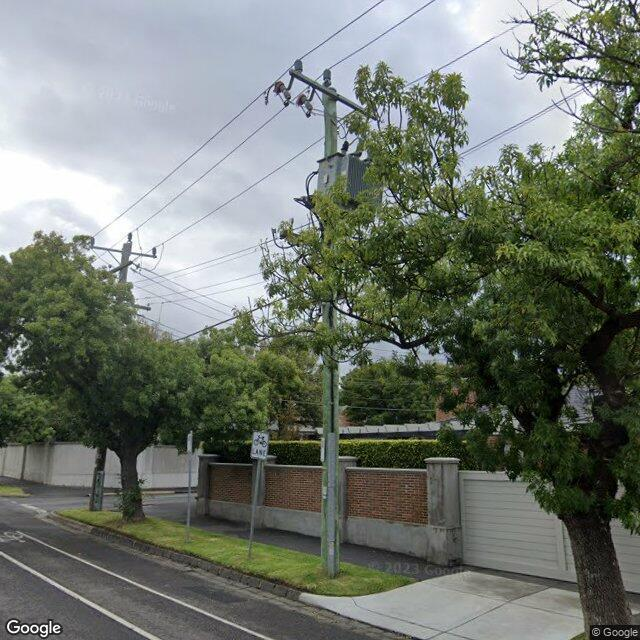HV-transmission: (265, 60, 331, 119), (91, 232, 156, 255)
crossarm: (289, 68, 377, 120), (90, 246, 156, 258), (108, 260, 133, 274), (123, 303, 152, 310)
timber-pole: (89, 243, 132, 512), (322, 87, 339, 580)
transformer: (317, 141, 383, 210)
